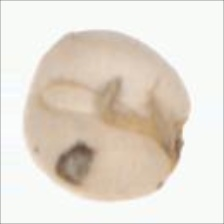L5: (40, 74, 149, 129), (158, 113, 191, 175), (22, 58, 49, 124)
L6: (17, 24, 194, 206)
